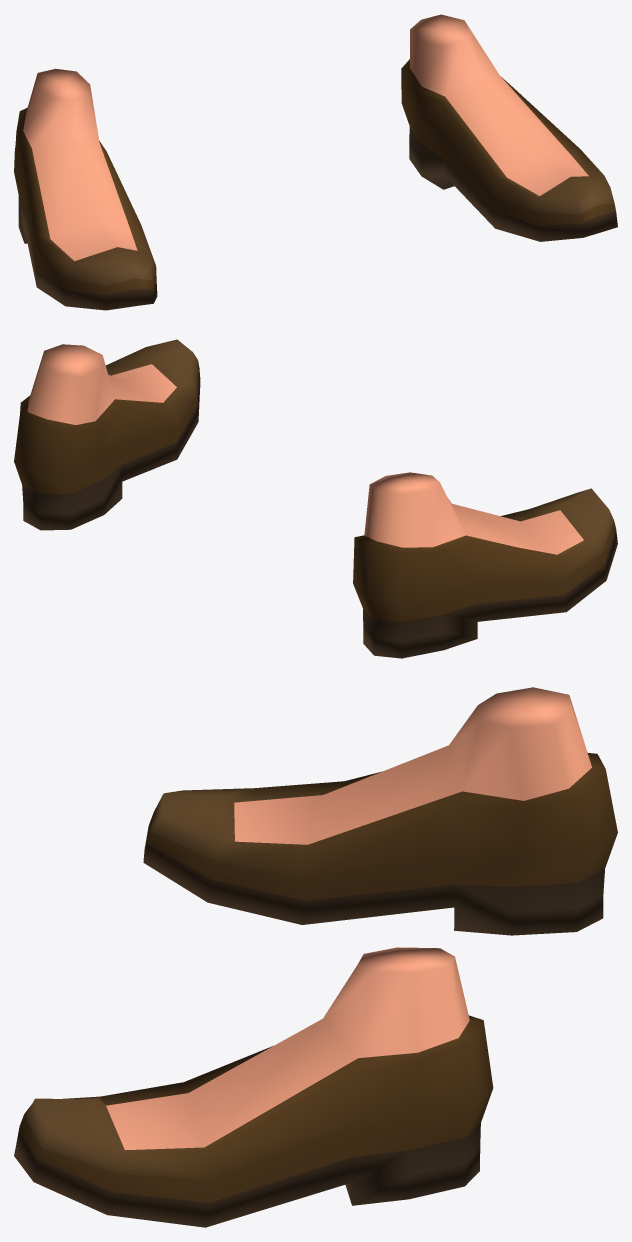
File: _F_Doctor_Shoe.fbx
3 views of the same model, one above another, from view 1: azimuth 30°, elevation 25°; view 2: azimuth 150°, elevation 25°; view 3: azimuth 270°, elevation 25° (orthographic). The views are drawn at different scales.
Visible parts, largest first — view 1: _F_Doctor_Shoe; view 2: _F_Doctor_Shoe; view 3: _F_Doctor_Shoe.
Boxes of the visible parts, x1,y1,x2,y2 form: _F_Doctor_Shoe: (14, 14, 617, 310); _F_Doctor_Shoe: (14, 339, 617, 658); _F_Doctor_Shoe: (14, 687, 617, 1227).
Size of the model in its own units: 51.91 by 14.01 by 35.37.
